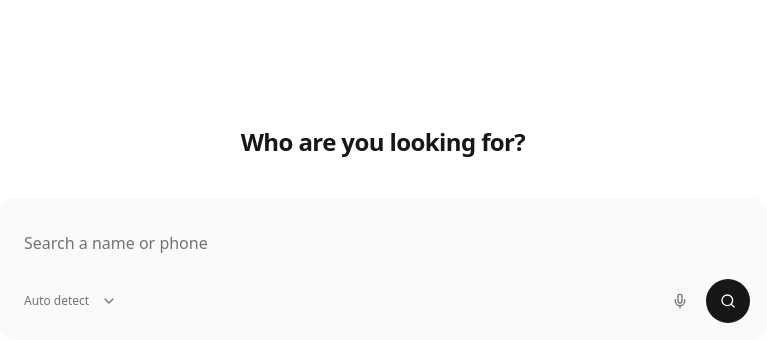
Scenario: Directory search interactions › debounces rapid typing and keeps search editable while loading
The image size is (767, 340).
Type "Ra" into the field named "Search contacts" at (383, 243), box x1=16 y1=215 x2=750 y2=271
Wait 200 ms
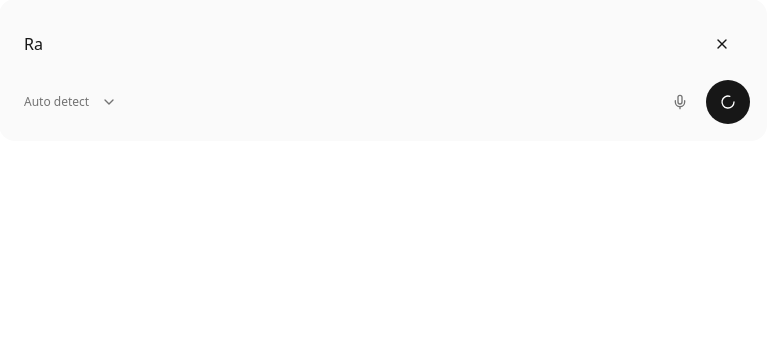
Replace the text in the field named "Search contacts" with "Ravi" at (383, 44), box x1=16 y1=16 x2=750 y2=72
Wait 400 ms
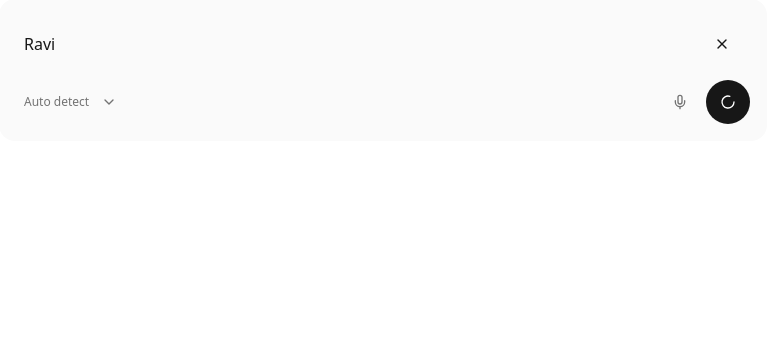
Click the button named "Clear search" at (722, 44), box x1=700 y1=22 x2=744 y2=66
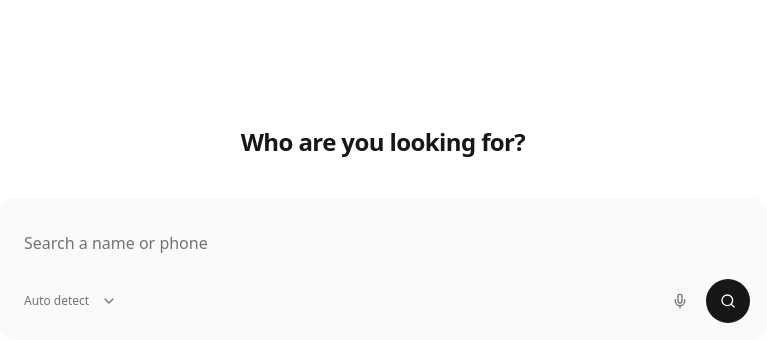
expect the text "Searching…" is not shown: met
expect the field named "Search contacts" is empty: met, box x1=16 y1=215 x2=750 y2=271
